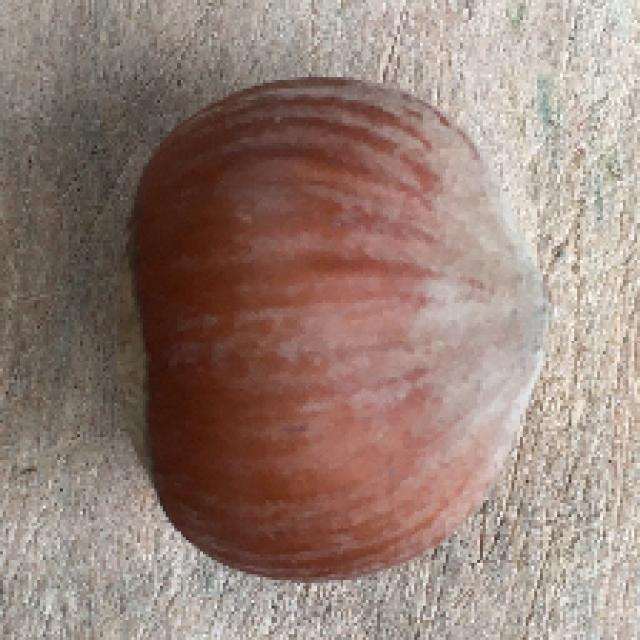qualityHazelnut: (100, 74, 550, 580)
